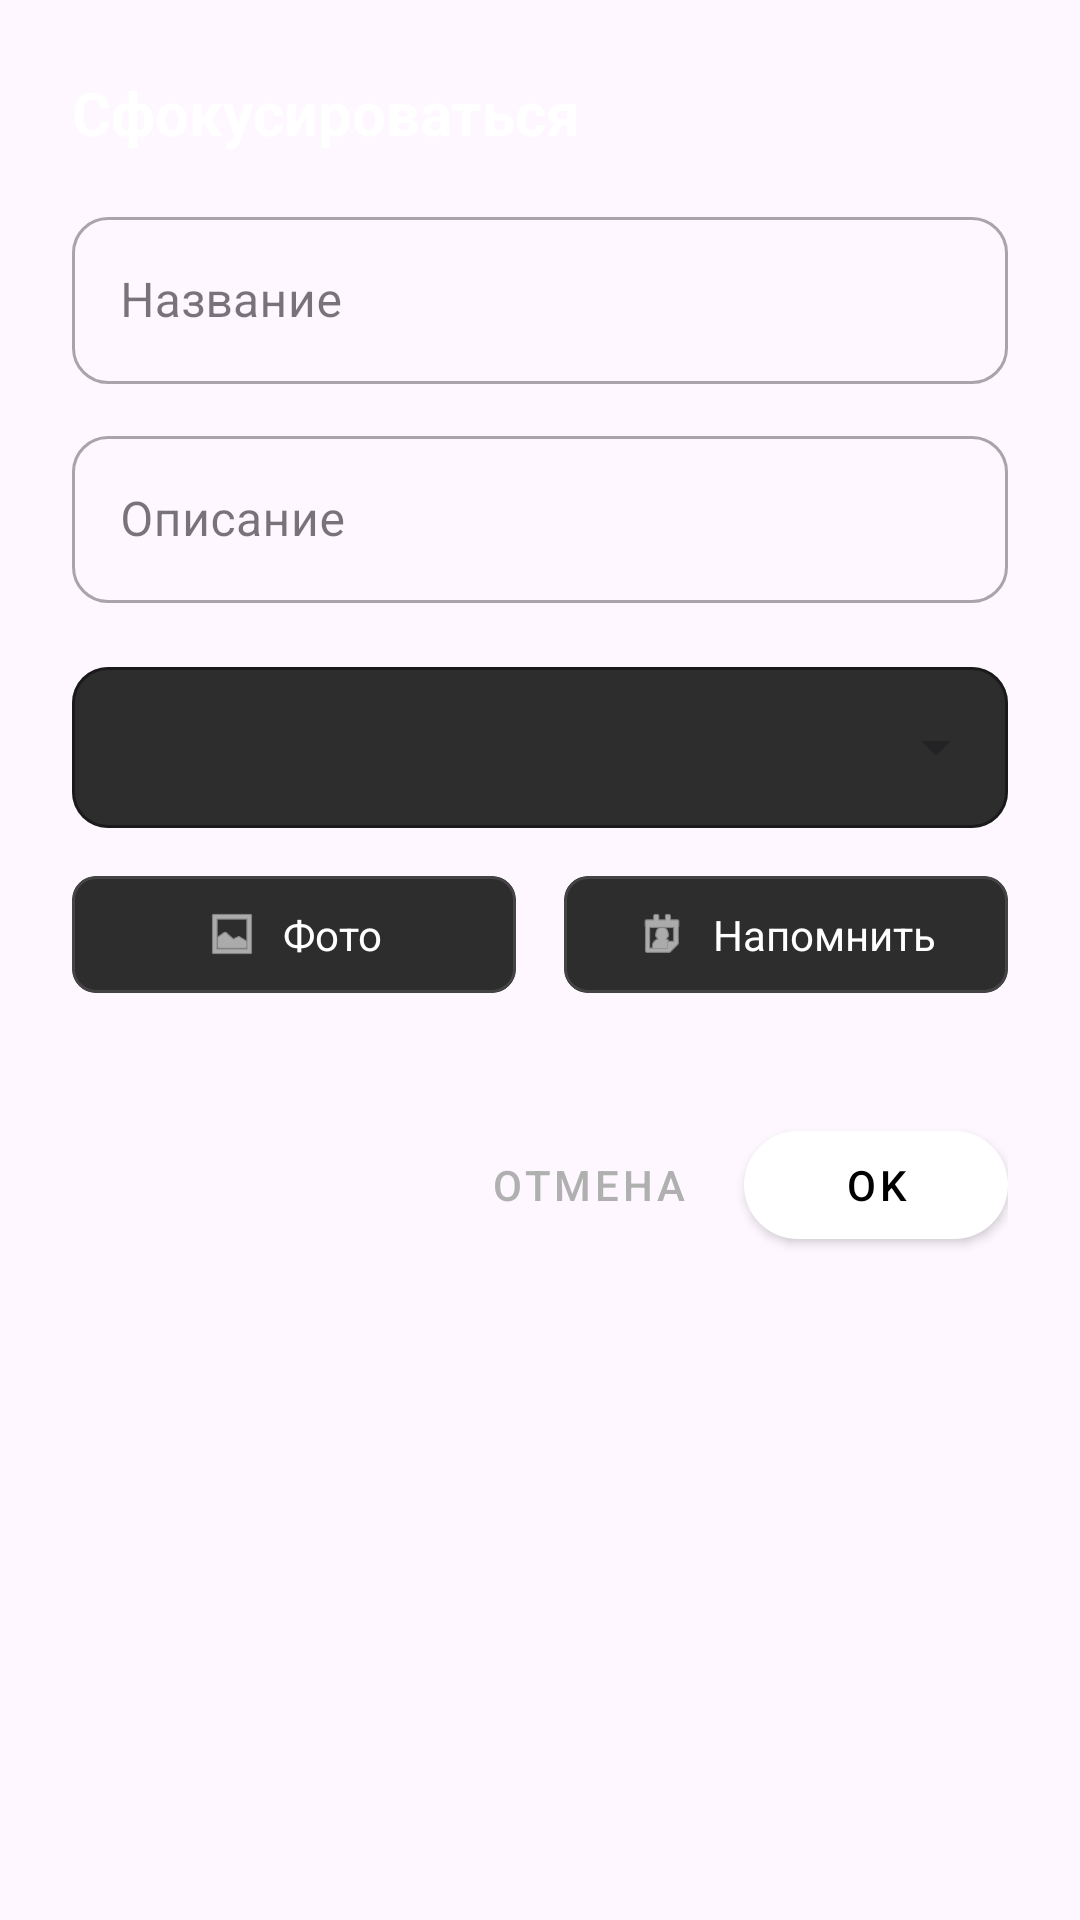

Where icons sit on this 1080 x 1920 app screen, as {"left": x1, "top": y1, "right": x2, "bottom": y2}:
calendar: {"left": 644, "top": 914, "right": 680, "bottom": 953}
gallery: {"left": 212, "top": 914, "right": 252, "bottom": 954}
